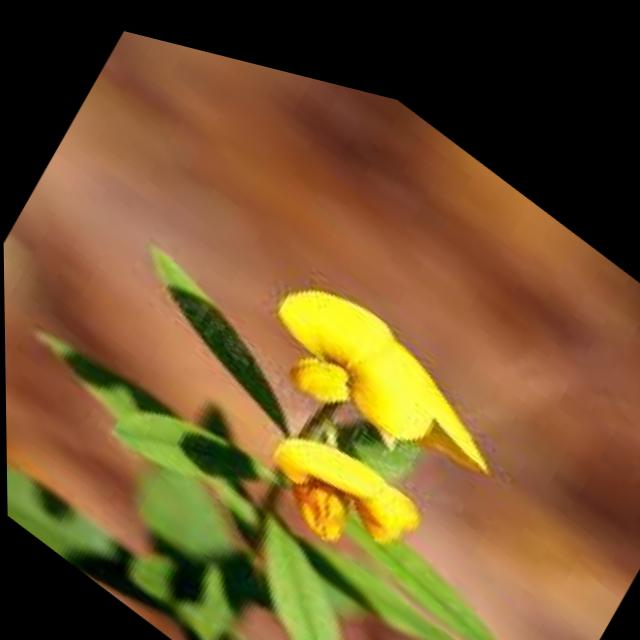Flower: (244, 222, 501, 488), (235, 373, 428, 578)
